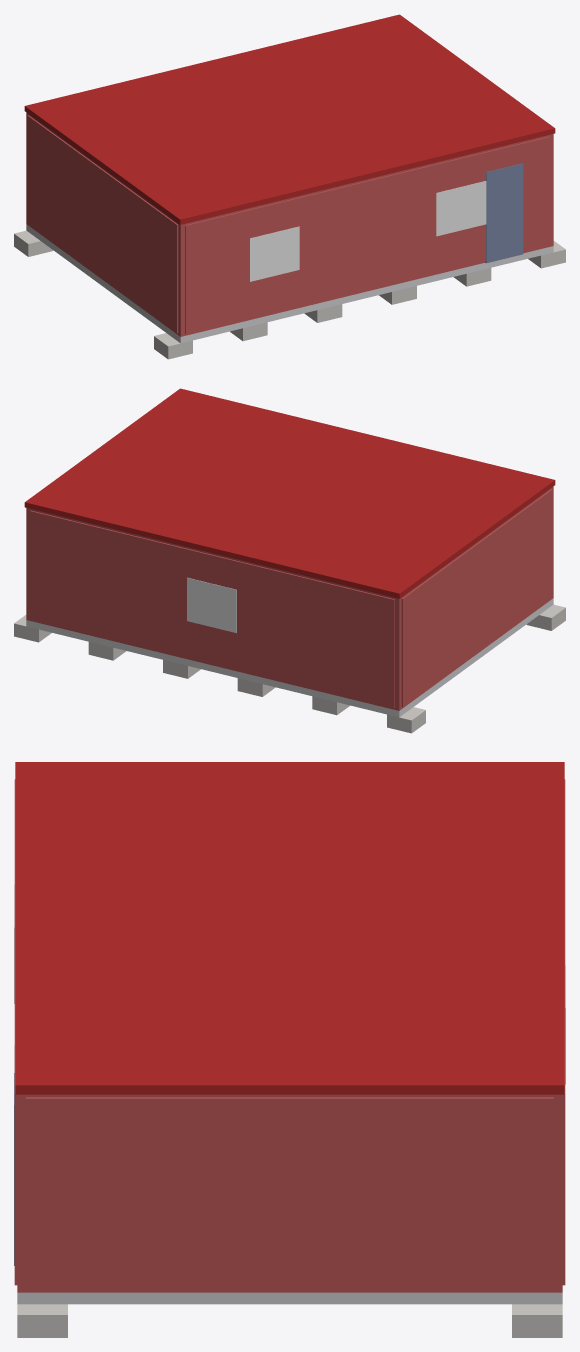
Rendered from Studio-30-Base-CrimsonRed-LOD0.glb.
3 views of the same model, one above another, from view 1: azimuth 30°, elevation 25°; view 2: azimuth 150°, elevation 25°; view 3: azimuth 270°, elevation 25° (orthographic). The views are drawn at different scales.
Visible parts, largest first — view 1: RoofMain, ExteriorPanelsStandard, WindowsStandard, BaseFrame, FoundationBlocks, ExteriorShell, EntryDoor; view 2: RoofMain, ExteriorPanelsStandard, BaseFrame, FoundationBlocks, ExteriorShell, WindowsStandard; view 3: RoofMain, ExteriorPanelsStandard, ExteriorShell, BaseFrame, FoundationBlocks.
Part boxes in pixels (x1,y1,x2,y2): RoofMain: (24,14,555,224); ExteriorPanelsStandard: (27,115,550,334); WindowsStandard: (249,181,486,281); BaseFrame: (26,224,553,343); FoundationBlocks: (14,230,565,359); ExteriorShell: (26,112,553,336); EntryDoor: (485,163,523,263); RoofMain: (24,388,555,598); ExteriorPanelsStandard: (30,489,552,708); BaseFrame: (26,598,553,717); FoundationBlocks: (14,604,565,733); ExteriorShell: (26,486,553,710); WindowsStandard: (187,577,236,633); RoofMain: (15,762,564,1094); ExteriorPanelsStandard: (14,779,565,1289); ExteriorShell: (17,1094,562,1292); BaseFrame: (17,1292,562,1304); FoundationBlocks: (17,1304,562,1337).
Size of the model in its own units: 9.6 by 3.17 by 6.53.
